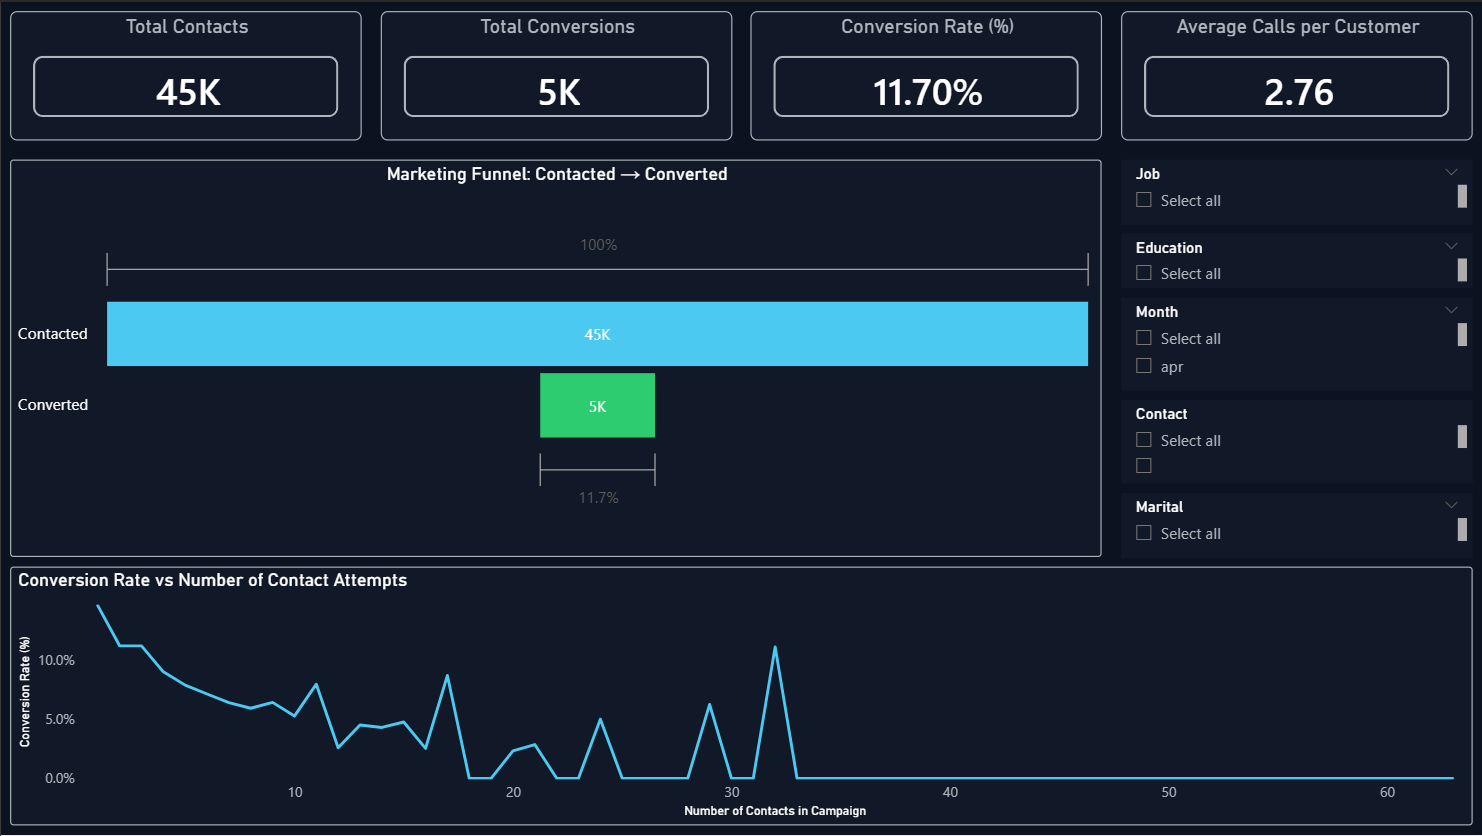

The page's visual inventory and layout, read from the dashboard file:
{"tool":"powerbi","page":{"name":"Funnel & KPI Overview","canvas":[1280,720],"ordinal":0},"visuals":[{"type":"cardVisual","title":"Total Contacts","fields":{"Data":["bank_marketing_cleaned.Total Contacts"]},"box":[8,8,304,112],"z":0},{"type":"cardVisual","title":"Total Conversions","fields":{"Data":["bank_marketing_cleaned.Total Conversions"]},"box":[328,8,304,112],"z":1000},{"type":"cardVisual","title":"Conversion Rate (%)","fields":{"Data":["bank_marketing_cleaned.Conversion Rate (%)"]},"box":[648,8,304,112],"z":2000},{"type":"cardVisual","title":"Average Calls per Customer","fields":{"Data":["bank_marketing_cleaned.Avg Calls per Customer"]},"box":[968,8,304,112],"z":3000},{"type":"lineChart","title":"Conversion Rate vs Number of Contact Attempts","fields":{"Category":["bank_marketing_cleaned.campaign"],"Y":["bank_marketing_cleaned.Conversion Rate (%)"]},"box":[8,488,1264,224],"z":4000},{"type":"funnel","title":"Marketing Funnel: Contacted → Converted","fields":{"Category":["Funnel Stages.Stage"],"Y":["bank_marketing_cleaned.Funnel Value"]},"box":[8,136,944,344],"z":5000},{"type":"slicer","fields":{"Values":["bank_marketing_cleaned.month"]},"box":[968,256,304,80],"z":6000},{"type":"slicer","fields":{"Values":["bank_marketing_cleaned.contact"]},"box":[968,344,304,72],"z":7000},{"type":"slicer","fields":{"Values":["bank_marketing_cleaned.marital"]},"box":[968,424,304,56],"z":8000},{"type":"slicer","fields":{"Values":["bank_marketing_cleaned.education"]},"box":[968,200,304,48],"z":9000},{"type":"slicer","fields":{"Values":["bank_marketing_cleaned.job"]},"box":[968,136,304,56],"z":10000}]}

Visuals, with their boxes in screenshot pixels (x1, y1, x2, y2), scaled from the page's 1280x720 canvas onto the 1482x836 screenshot:
"Total Contacts" cardVisual: bbox=(9, 9, 361, 139)
"Total Conversions" cardVisual: bbox=(380, 9, 732, 139)
"Conversion Rate (%)" cardVisual: bbox=(750, 9, 1102, 139)
"Average Calls per Customer" cardVisual: bbox=(1121, 9, 1473, 139)
"Conversion Rate vs Number of Contact Attempts" lineChart: bbox=(9, 567, 1473, 827)
"Marketing Funnel: Contacted → Converted" funnel: bbox=(9, 158, 1102, 557)
slicer - bank_marketing_cleaned.month: bbox=(1121, 297, 1473, 390)
slicer - bank_marketing_cleaned.contact: bbox=(1121, 399, 1473, 483)
slicer - bank_marketing_cleaned.marital: bbox=(1121, 492, 1473, 557)
slicer - bank_marketing_cleaned.education: bbox=(1121, 232, 1473, 288)
slicer - bank_marketing_cleaned.job: bbox=(1121, 158, 1473, 223)
